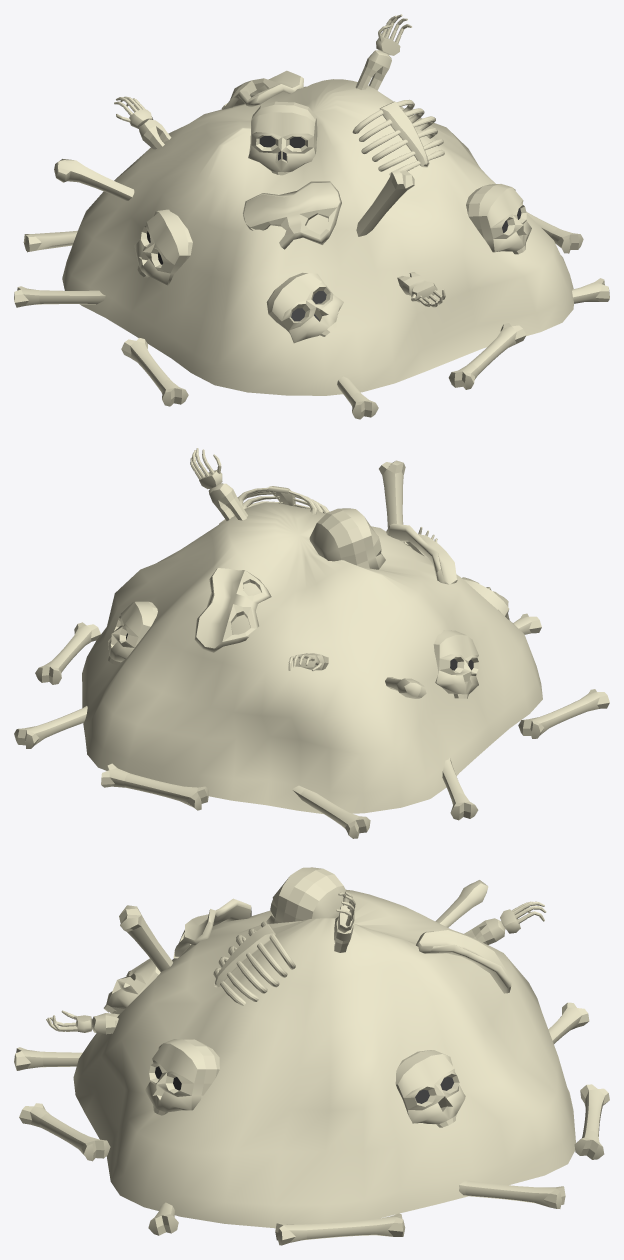
Rendered from PiladeHuesos.fbx.
The picture shows the model from 3 angles, top to bottom: view 1: azimuth 30°, elevation 25°; view 2: azimuth 150°, elevation 25°; view 3: azimuth 270°, elevation 25°; orthographic projection. The views are drawn at different scales.
Visible parts, largest first — view 1: Piladehuesos; view 2: Piladehuesos; view 3: Piladehuesos.
Part boxes in pixels (bbox=[...]): Piladehuesos: bbox=[14, 14, 609, 419]; Piladehuesos: bbox=[14, 448, 609, 838]; Piladehuesos: bbox=[14, 867, 609, 1245].
Size of the model in its own units: 6.57 by 3.29 by 6.36.
